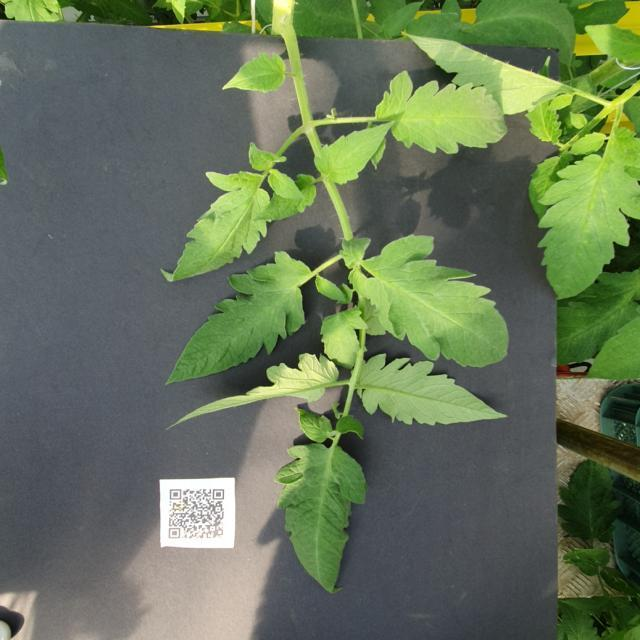Healthy: (163, 250, 312, 385), (362, 234, 510, 369), (536, 126, 640, 300), (273, 442, 367, 594), (160, 171, 270, 283), (374, 70, 508, 155), (358, 354, 508, 426), (314, 120, 395, 186), (221, 52, 287, 94)
